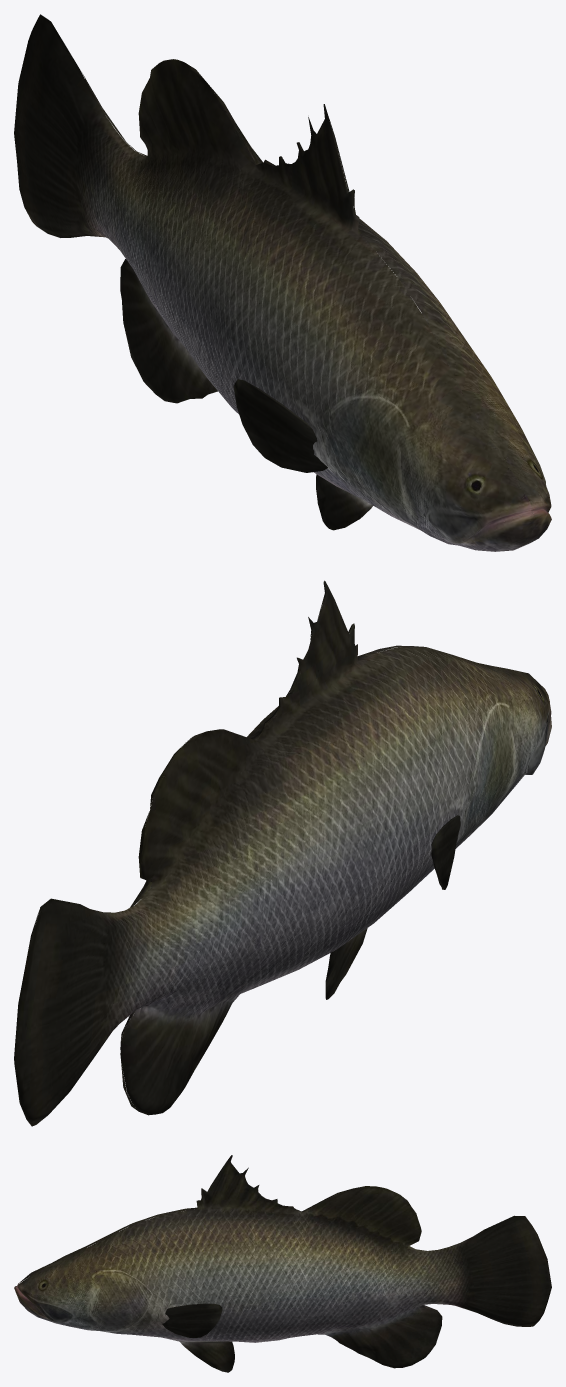
Rendered from small-fish.glb.
The picture shows the model from 3 angles, top to bottom: view 1: azimuth 30°, elevation 25°; view 2: azimuth 150°, elevation 25°; view 3: azimuth 270°, elevation 25°; orthographic projection. The views are drawn at different scales.
Visible parts, largest first — view 1: FishBody; view 2: FishBody; view 3: FishBody.
Boxes of the visible parts, <box> form: FishBody: <box>14,14,551,551</box>; FishBody: <box>14,580,551,1126</box>; FishBody: <box>14,1155,551,1372</box>.
Bounding box in the file's own units: 0.1425 × 0.2872 × 0.6431.
Materials: 1 (1 with a texture image).
